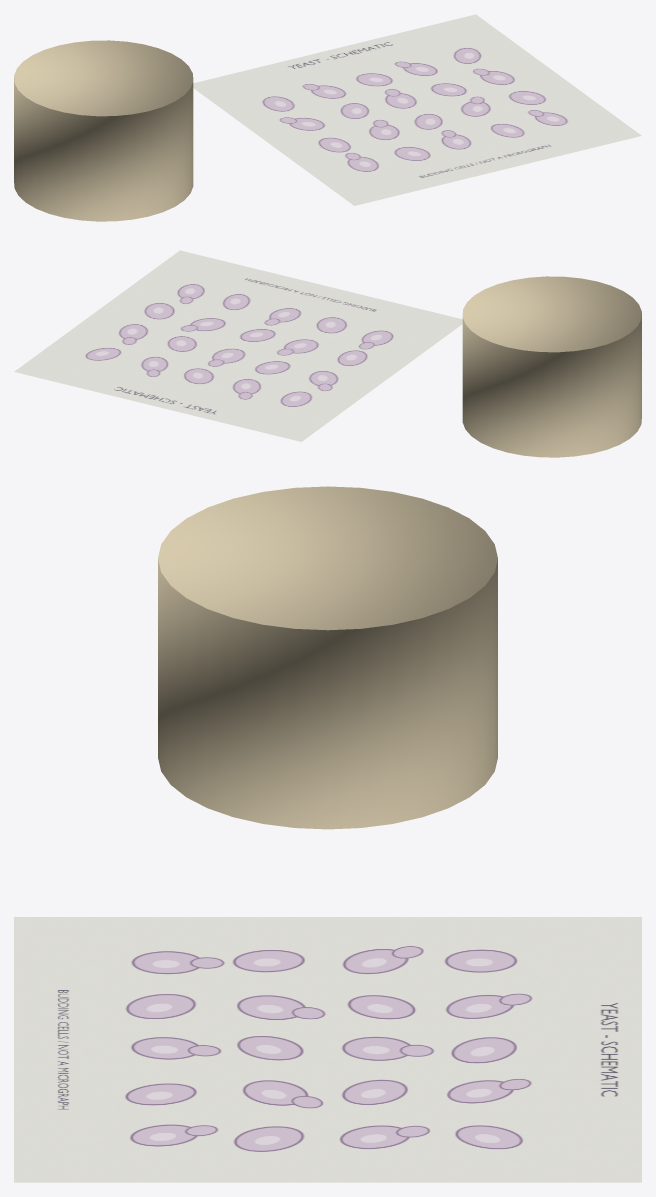
File: VLAB_yeast.fbx
3 views of the same model, one above another, from view 1: azimuth 30°, elevation 25°; view 2: azimuth 150°, elevation 25°; view 3: azimuth 270°, elevation 25° (orthographic). The views are drawn at different scales.
Visible parts, largest first — view 1: VLAB_yeast_CellSprite_VIS, VLAB_yeast_ContainerContent_VIS; view 2: VLAB_yeast_CellSprite_VIS, VLAB_yeast_ContainerContent_VIS; view 3: VLAB_yeast_CellSprite_VIS, VLAB_yeast_ContainerContent_VIS.
Boxes of the visible parts, left/top/right/bottom form: VLAB_yeast_CellSprite_VIS: left=193, top=14, right=641, bottom=205; VLAB_yeast_ContainerContent_VIS: left=14, top=40, right=193, bottom=221; VLAB_yeast_CellSprite_VIS: left=14, top=250, right=462, bottom=441; VLAB_yeast_ContainerContent_VIS: left=462, top=276, right=641, bottom=457; VLAB_yeast_CellSprite_VIS: left=14, top=917, right=641, bottom=1182; VLAB_yeast_ContainerContent_VIS: left=158, top=486, right=497, bottom=829.
Bounding box in the file's own units: 0.2225 × 0.043 × 0.12.
